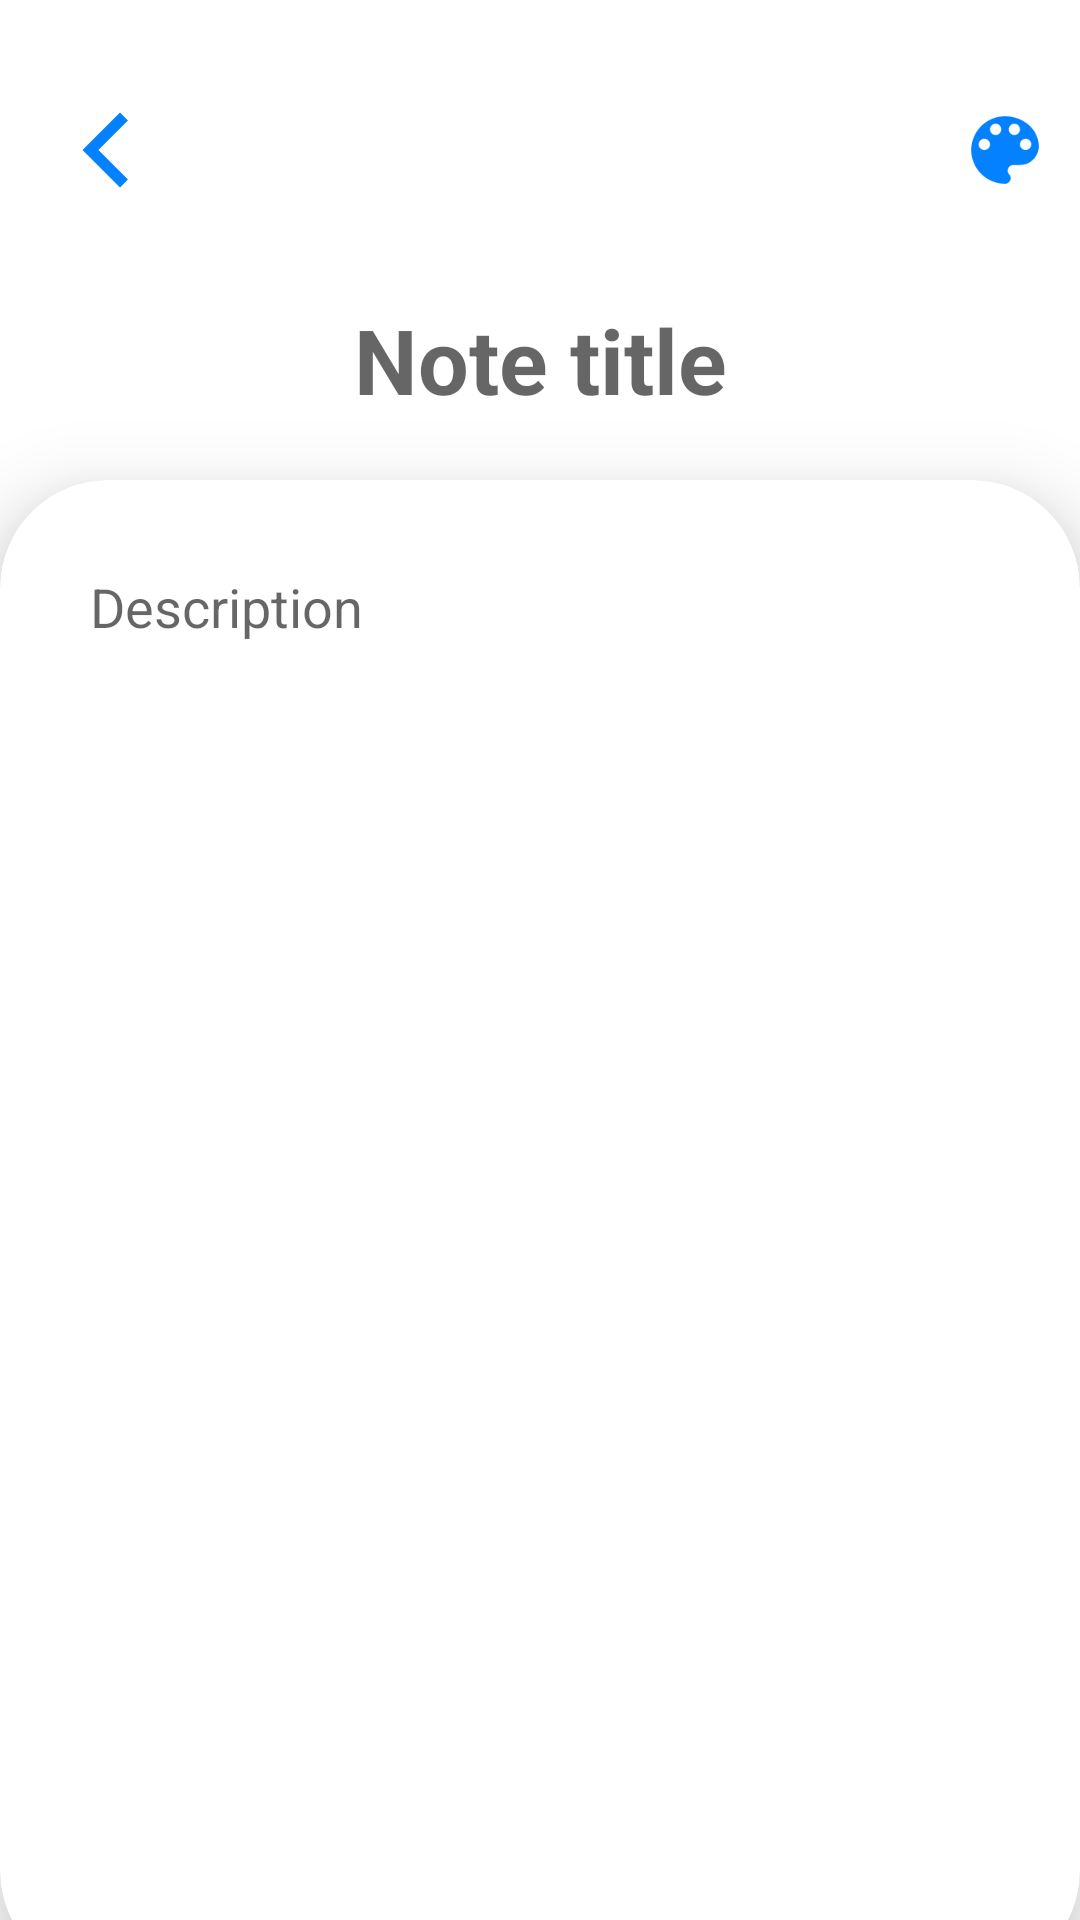

Where icons sit on this 1080 × 1920 app screen, as bbox=(x1, y1, x2, y2):
picker: bbox=(971, 116, 1039, 184)
